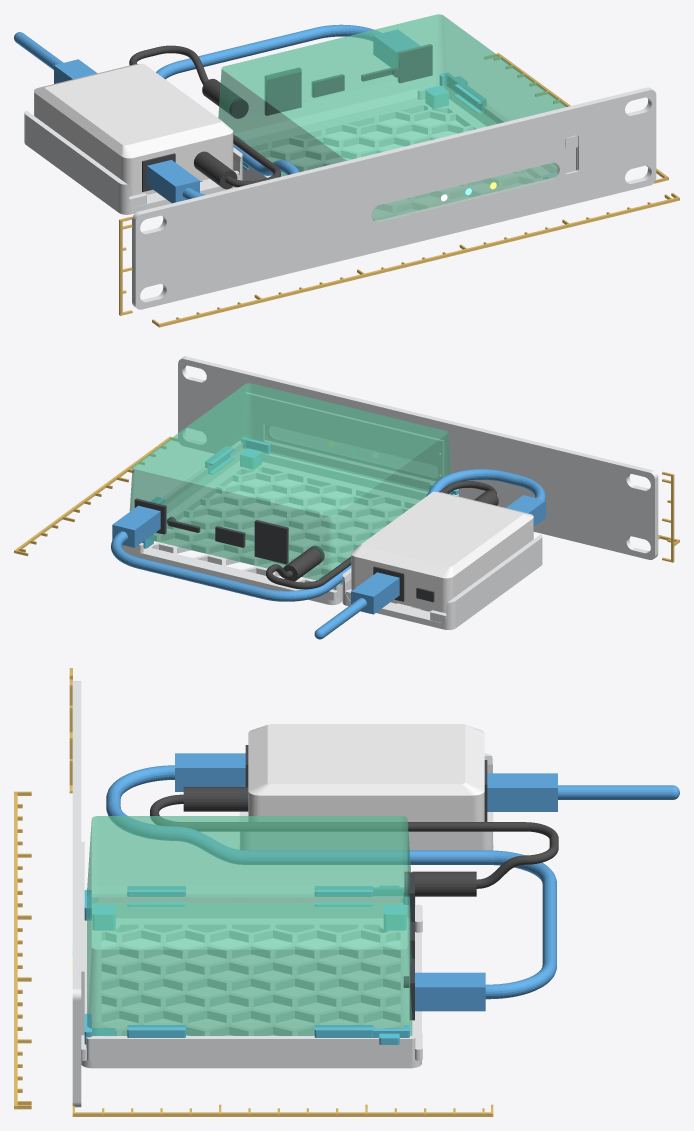
File: home-assistant-green-rack-unified_roof.glb
The picture shows the model from 3 angles, top to bottom: view 1: azimuth 30°, elevation 25°; view 2: azimuth 150°, elevation 25°; view 3: azimuth 270°, elevation 25°; orthographic projection. The views are drawn at different scales.
Parts seen in each view (by area): view 1: White rack mount, Home Assistant Green, TP-Link TL-PD30G-M2, Green tray — standard, Internal Ethernet cable, 10 mm dimension rulers, Home Assistant Green connector faces, TP-Link cradle side walls, LED window insert, DC cable, Green retention — segmented rails + rear latch, TP-Link cradle floor (+3 smaller); view 2: Home Assistant Green, White rack mount, Green tray — standard, TP-Link TL-PD30G-M2, LED shutter retainer, Internal Ethernet cable, TP-Link cradle side walls, Home Assistant Green connector faces, LED window insert, DC cable, Incoming PoE cable, 10 mm dimension rulers (+3 smaller); view 3: Home Assistant Green, Green tray — standard, TP-Link TL-PD30G-M2, Internal Ethernet cable, DC cable, Green retention — segmented rails + rear latch, 10 mm dimension rulers, TP-Link cradle side walls, Incoming PoE cable, White rack mount, Home Assistant Green connector faces, LED shutter retainer.
Boxes of the visible parts, bbox=[...] form: White rack mount: bbox=[132, 87, 656, 309]; Home Assistant Green: bbox=[218, 14, 566, 220]; TP-Link TL-PD30G-M2: bbox=[34, 63, 233, 196]; Green tray — standard: bbox=[242, 84, 508, 180]; Internal Ethernet cable: bbox=[147, 24, 419, 203]; 10 mm dimension rulers: bbox=[119, 53, 679, 327]; Home Assistant Green connector faces: bbox=[229, 44, 432, 118]; TP-Link cradle side walls: bbox=[24, 110, 242, 208]; LED window insert: bbox=[371, 162, 559, 222]; DC cable: bbox=[129, 45, 280, 189]; Green retention — segmented rails + rear latch: bbox=[236, 73, 556, 178]; TP-Link cradle floor: bbox=[24, 137, 242, 214]; Home Assistant Green: bbox=[129, 383, 451, 580]; White rack mount: bbox=[178, 356, 658, 559]; Green tray — standard: bbox=[121, 441, 458, 605]; TP-Link TL-PD30G-M2: bbox=[351, 491, 533, 613]; LED shutter retainer: bbox=[245, 392, 443, 484]; Internal Ethernet cable: bbox=[111, 469, 545, 601]; TP-Link cradle side walls: bbox=[342, 534, 542, 624]; Home Assistant Green connector faces: bbox=[134, 498, 324, 564]; LED window insert: bbox=[265, 425, 437, 480]; DC cable: bbox=[266, 481, 498, 589]; Incoming PoE cable: bbox=[314, 572, 399, 639]; 10 mm dimension rulers: bbox=[14, 430, 679, 562]; Home Assistant Green: bbox=[87, 816, 412, 1035]; Green tray — standard: bbox=[81, 894, 422, 1068]; TP-Link TL-PD30G-M2: bbox=[248, 724, 484, 821]; Internal Ethernet cable: bbox=[106, 753, 556, 1011]; DC cable: bbox=[150, 787, 558, 896]; Green retention — segmented rails + rear latch: bbox=[84, 886, 409, 1044]; 10 mm dimension rulers: bbox=[14, 668, 493, 1116]; TP-Link cradle side walls: bbox=[240, 753, 493, 850]; Incoming PoE cable: bbox=[487, 773, 679, 811]; White rack mount: bbox=[72, 681, 81, 1107]; Home Assistant Green connector faces: bbox=[403, 871, 414, 1020]; LED shutter retainer: bbox=[81, 841, 84, 1035].
Size of what is drawn, in the model's own units: 268 by 44.45 by 227.
